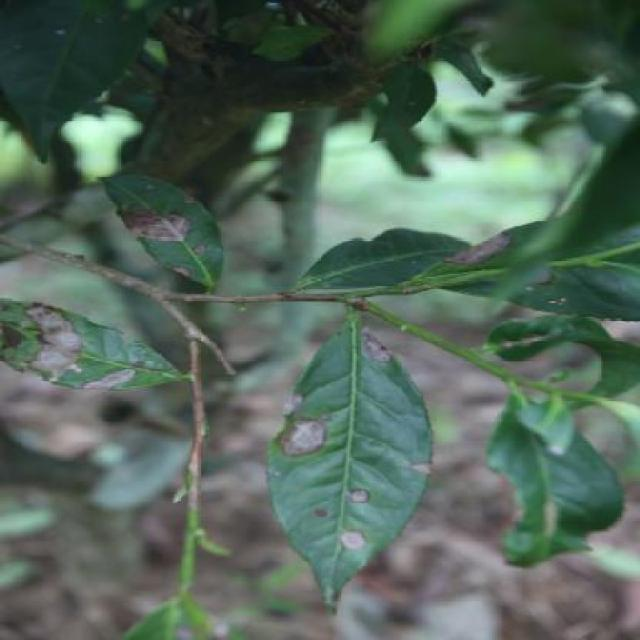Leaf rust of tea: (263, 312, 437, 617), (0, 292, 182, 392), (100, 170, 229, 296)
